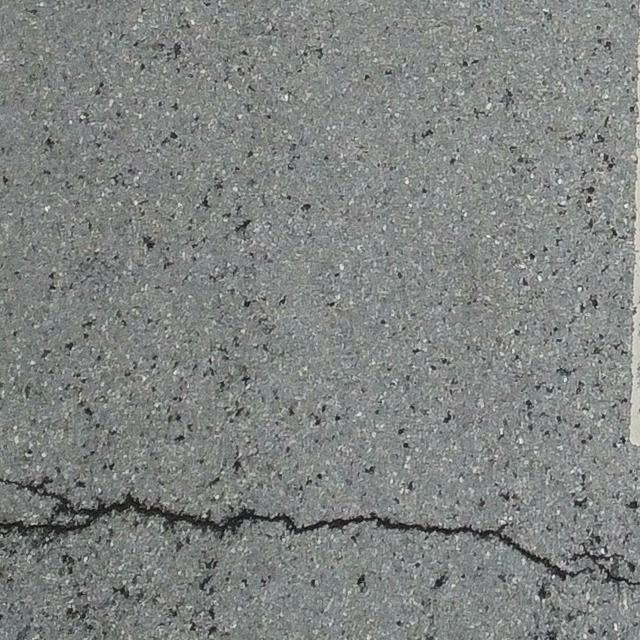TransverseCrack: (1, 478, 640, 586)
